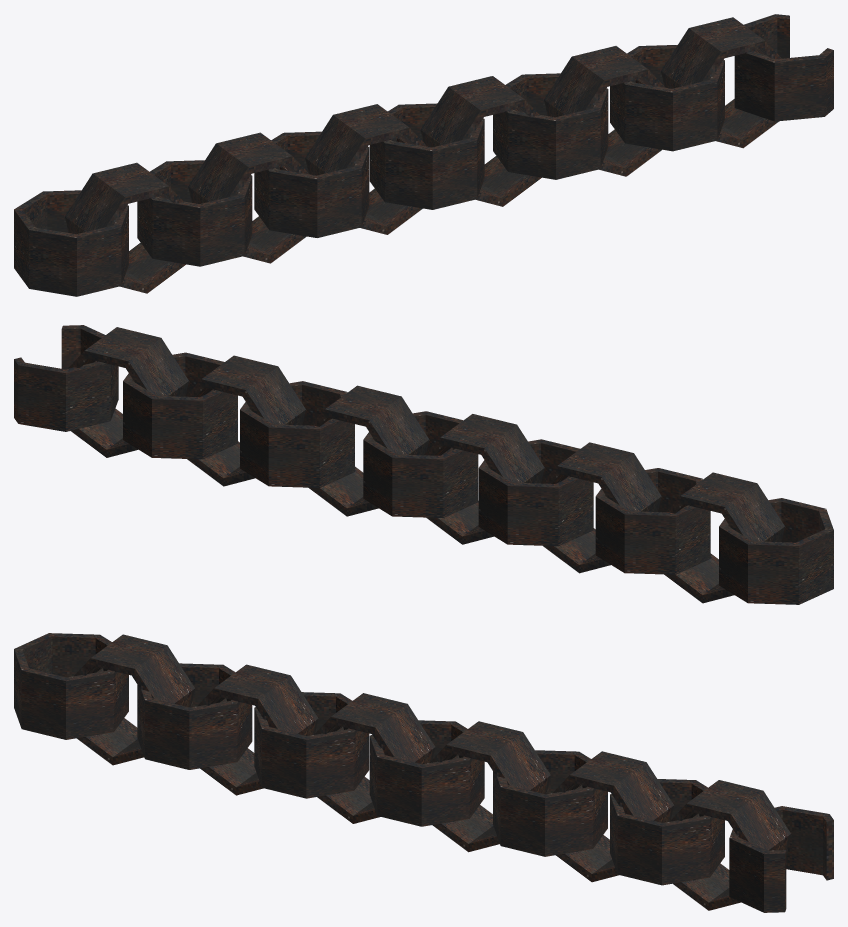
File: longchain.fbx
The picture shows the model from 3 angles, top to bottom: view 1: azimuth 30°, elevation 25°; view 2: azimuth 150°, elevation 25°; view 3: azimuth 330°, elevation 25°; orthographic projection.
Parts seen in each view (by area): view 1: Cylinder; view 2: Cylinder; view 3: Cylinder.
Part boxes in pixels (<box>): Cylinder: <box>14,14,833,296</box>; Cylinder: <box>14,325,833,604</box>; Cylinder: <box>14,633,833,912</box>.
Size of the model in its own units: 1962 by 242 by 253.
